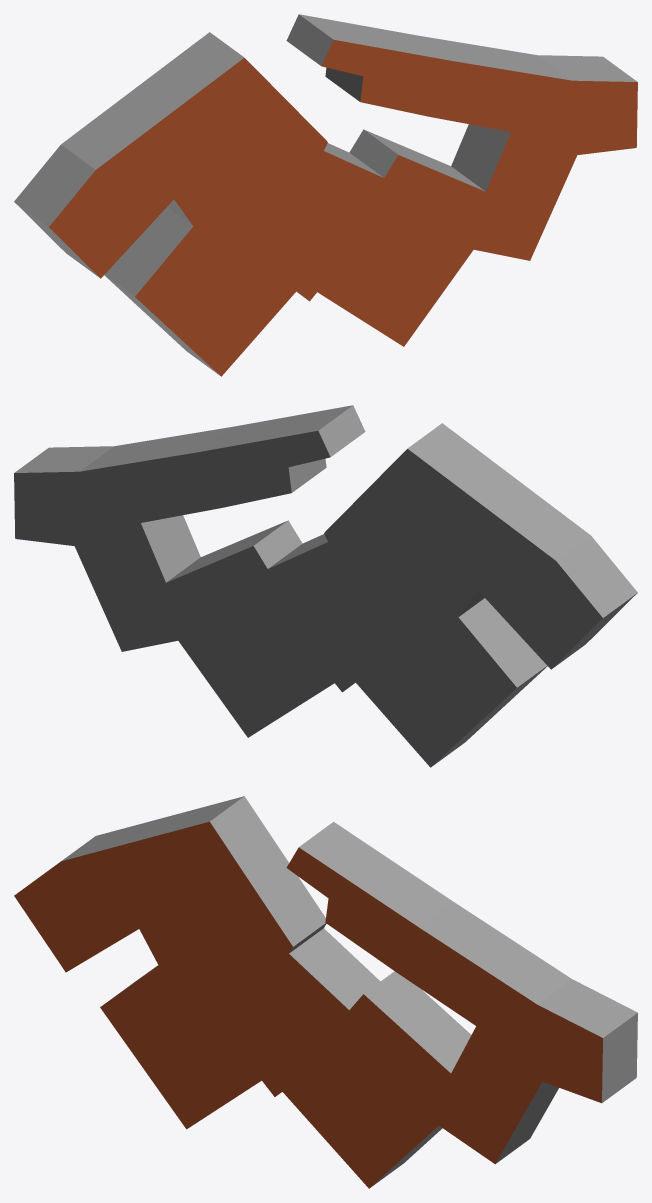
The model's file is construction_0578_assumed_A_Casa_h6m.obj.
3 renders of one model, top to bottom at view 1: azimuth 30°, elevation 25°; view 2: azimuth 150°, elevation 25°; view 3: azimuth 330°, elevation 25°, orthographic.
Visible parts, largest first — view 1: construction_0578_assumed_A_Casa; view 2: construction_0578_assumed_A_Casa; view 3: construction_0578_assumed_A_Casa.
Boxes of the visible parts, x1,y1,x2,y2 form: construction_0578_assumed_A_Casa: [14, 14, 637, 376]; construction_0578_assumed_A_Casa: [14, 405, 637, 767]; construction_0578_assumed_A_Casa: [14, 796, 637, 1188].
Size of the model in its own units: 58.51 by 31.16 by 6.
